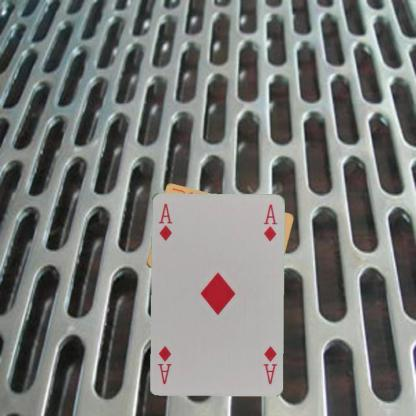Ad: (260, 343, 278, 385), (156, 200, 173, 241)
